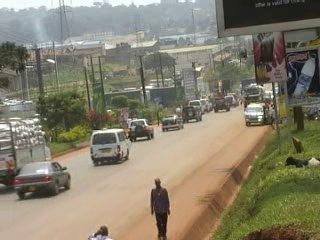Car: (10, 158, 72, 200), (125, 117, 155, 143), (159, 112, 186, 133), (179, 103, 202, 124), (210, 93, 230, 114), (222, 93, 239, 108)
